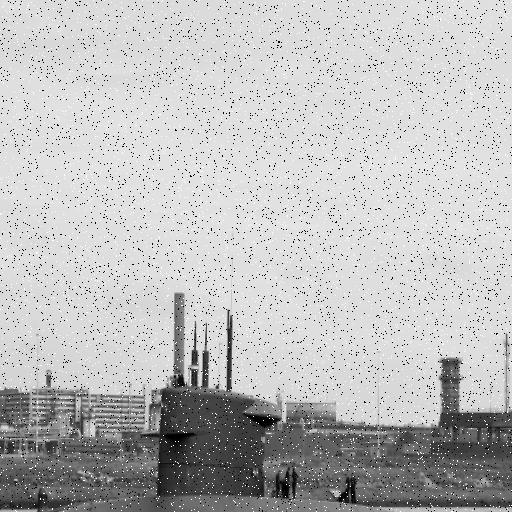submarine: (9, 291, 470, 512)
